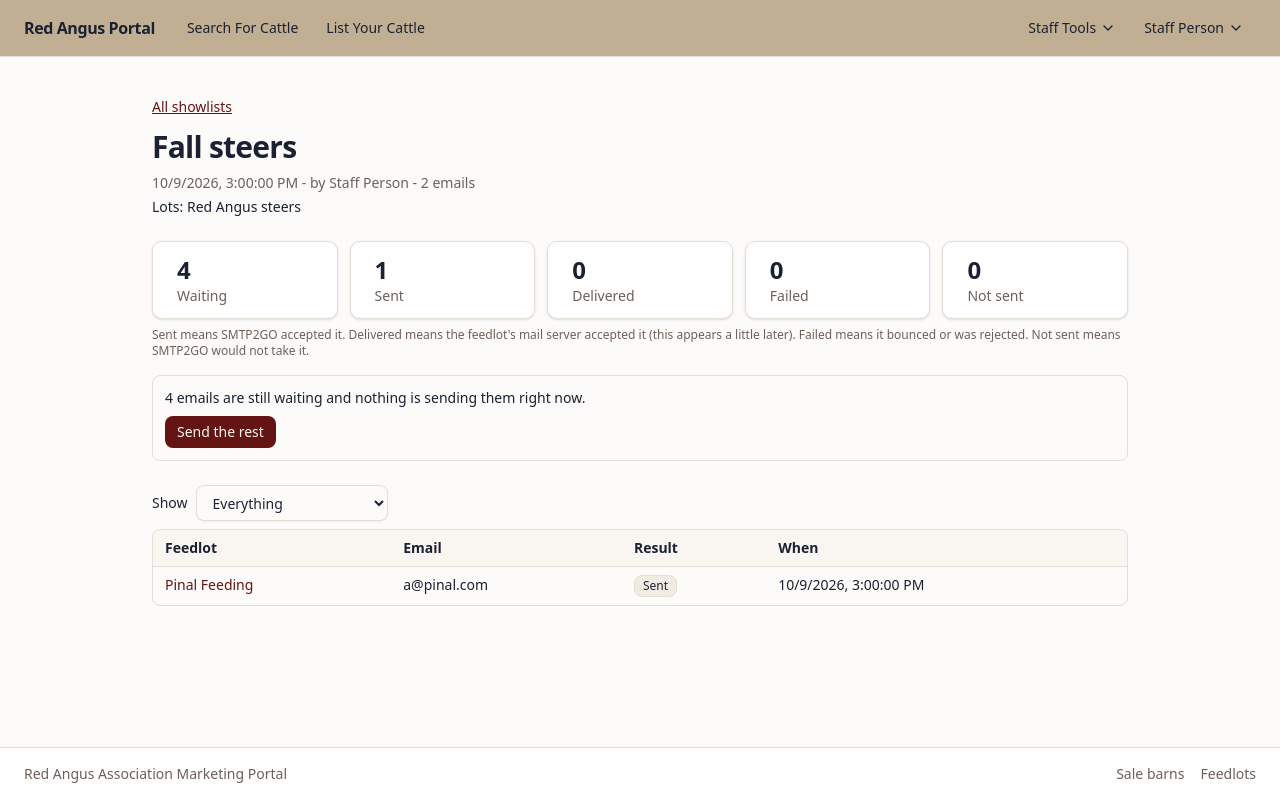
Test: showlist history and results › offers to send the rest when emails are waiting and nothing is sending them
The image size is (1280, 800).
Check: the text "4 emails are still waiting" is shown, box [165,388,585,407]
Click the button "Send the rest" at {"x": 220, "y": 432}, box [165,416,276,448]
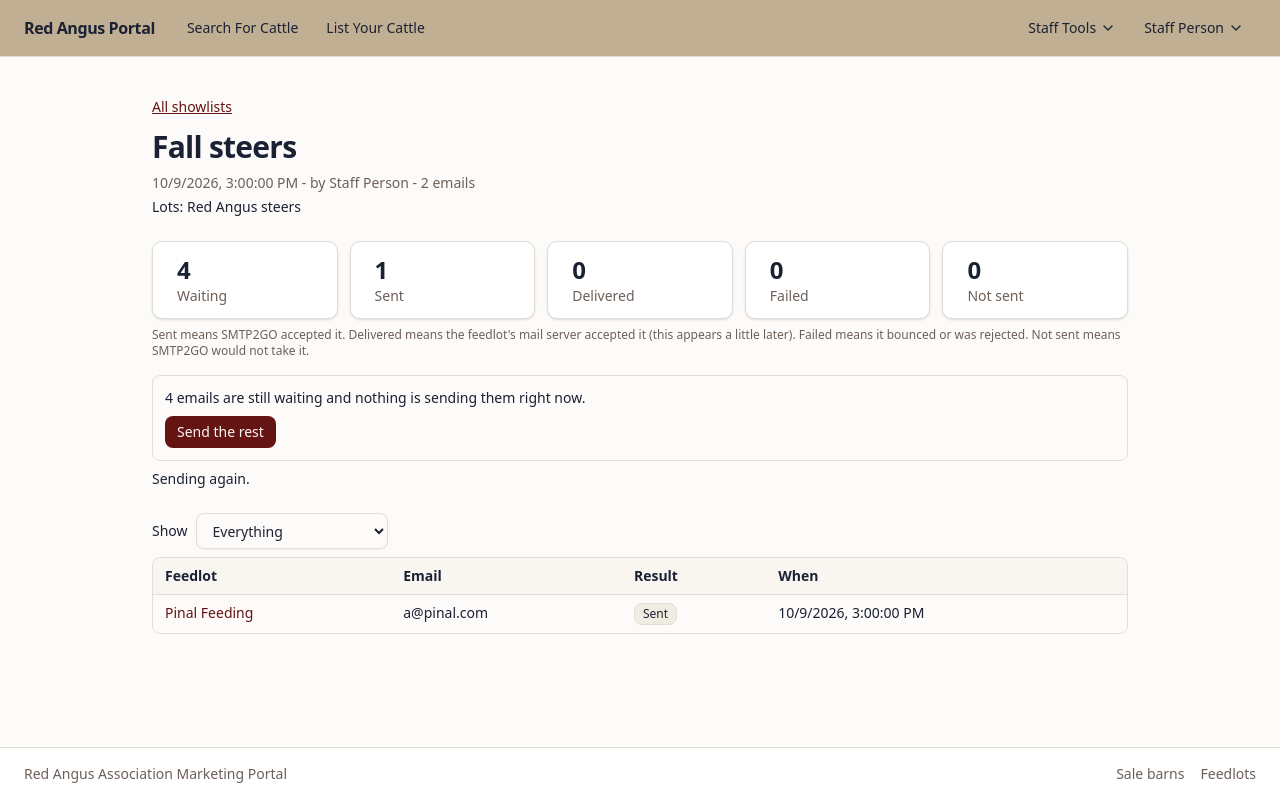
Check: the text "Sending again." is shown, box [152,469,250,488]
